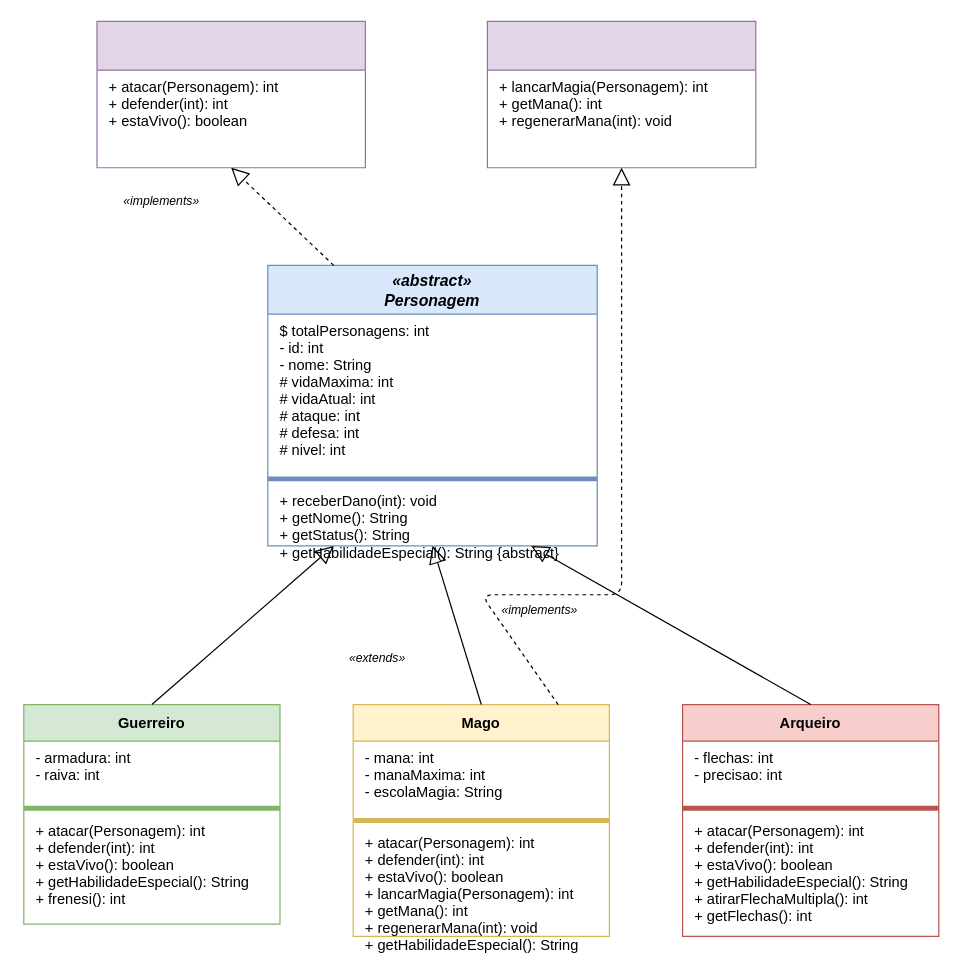
Image size: 961x976. Some labels were removed from this diagram. Each missing label, with the box of its shape:
«interface» Combatente: (96, 20, 365, 168)
«interface» Magico: (486, 20, 756, 168)
